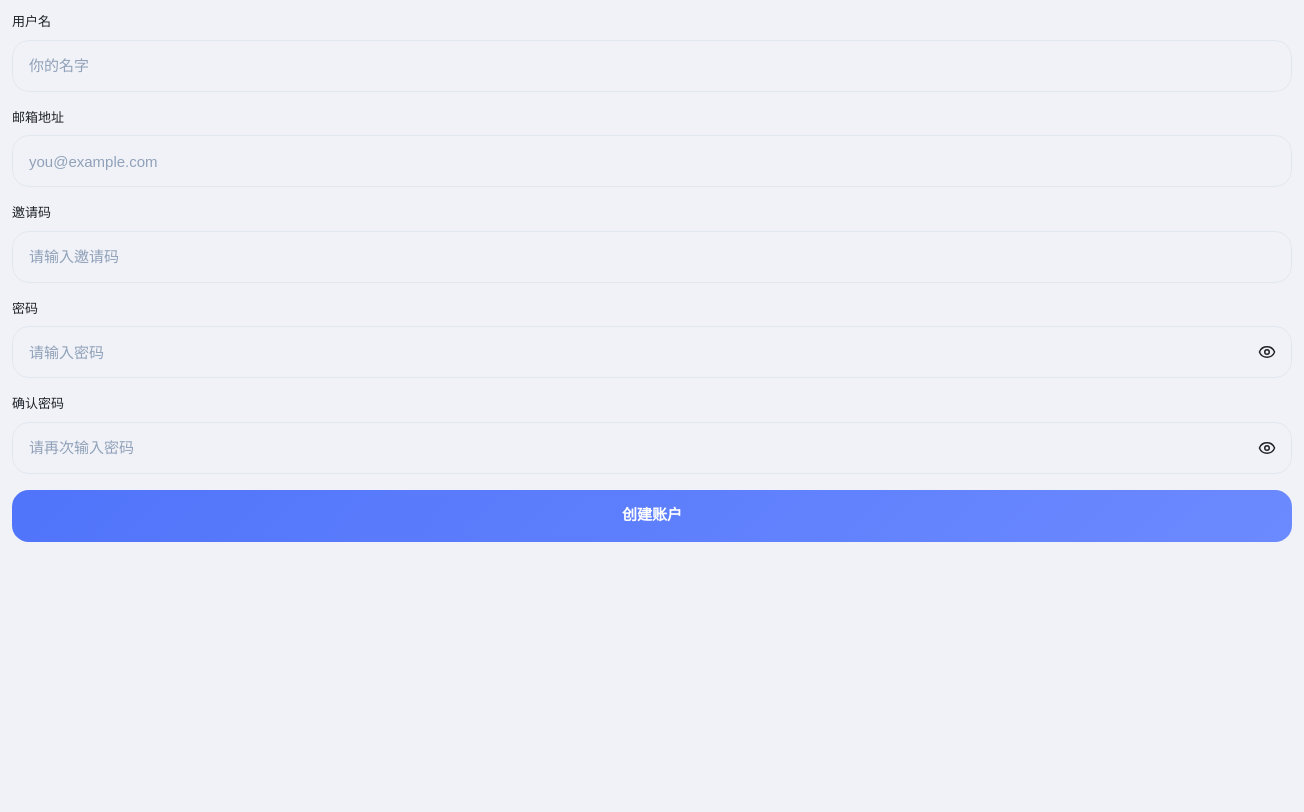
Test: auth components › RegisterForm › shows password validation error for weak password
Type "User" into the field with placeholder "你的名字" at (652, 66), box [12,40,1292,92]
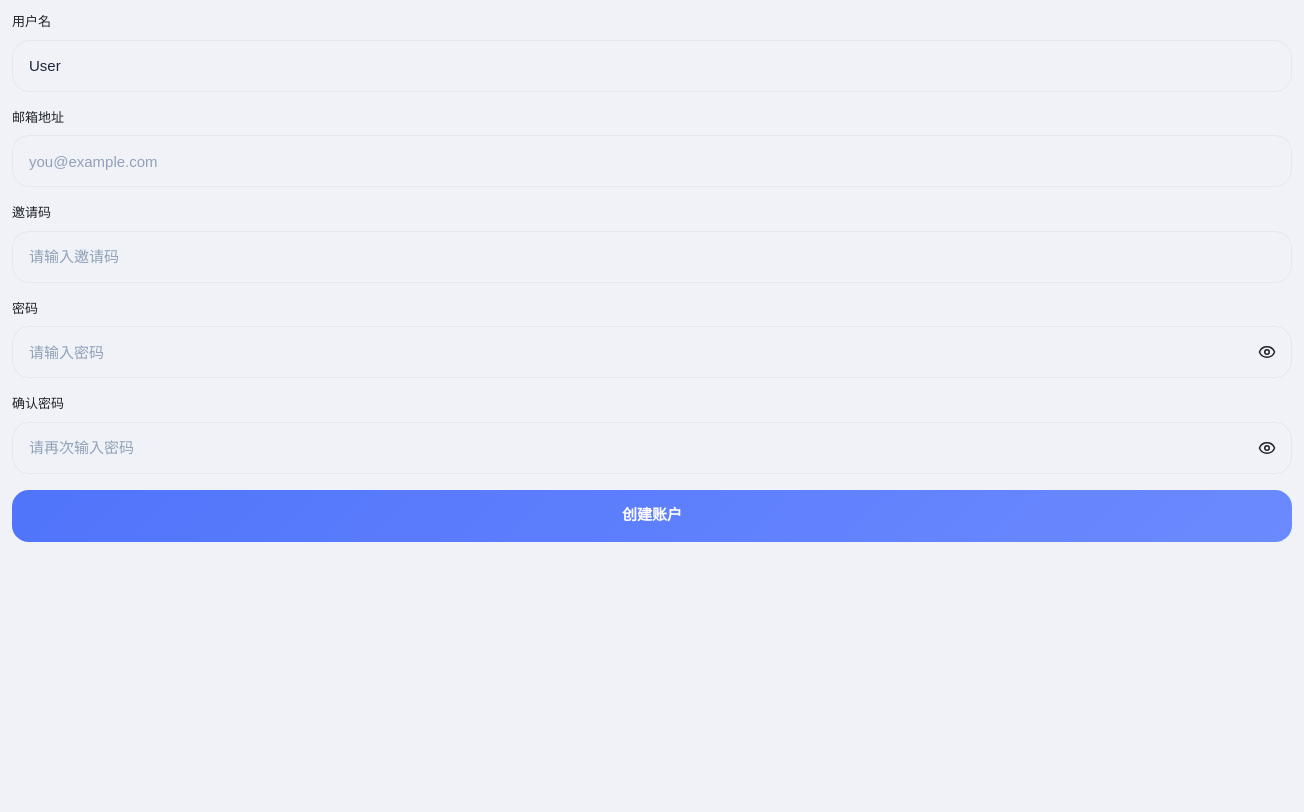
Type "user@example.com" into the field with placeholder "you@example.com" at (652, 161), box [12,135,1292,187]
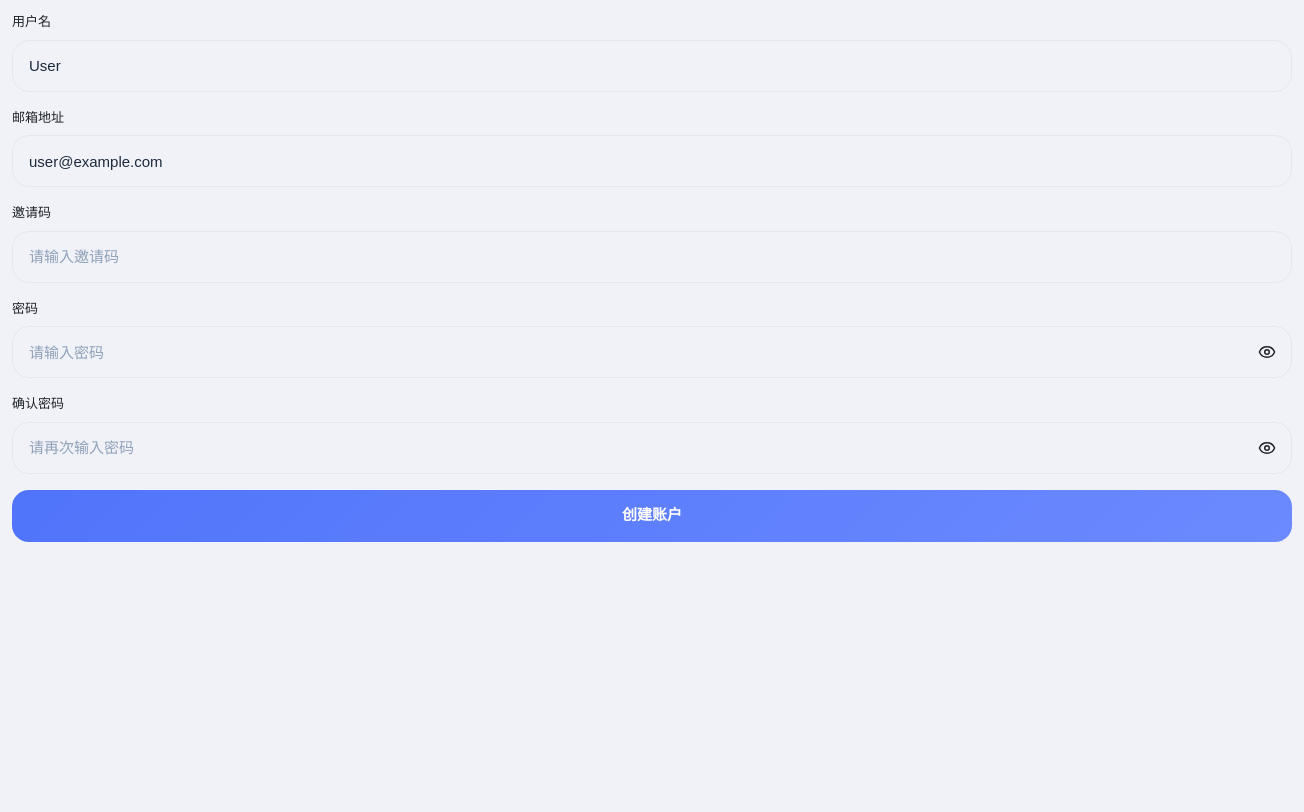
Type "weak" into the password field with placeholder "请输入密码" at (652, 352), box [12,326,1292,378]
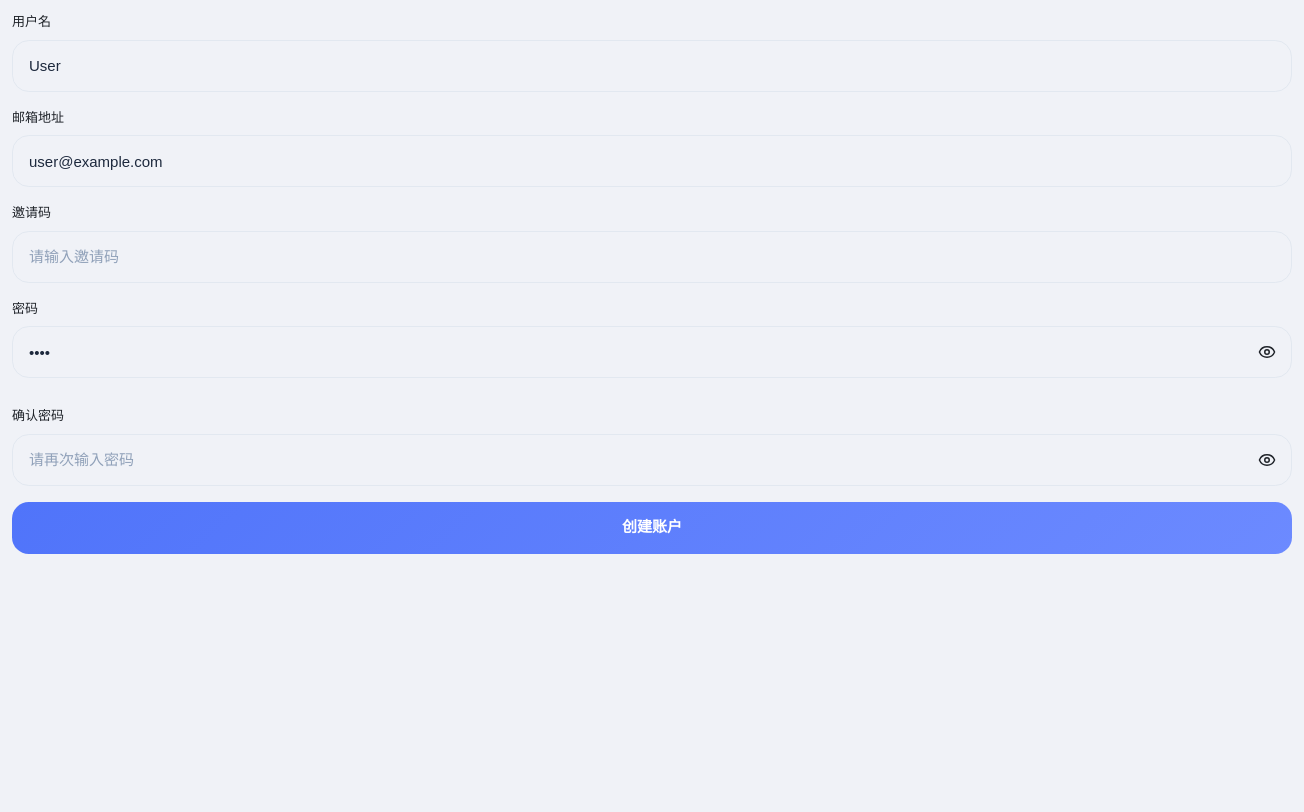
Type "weak" into the password field with placeholder "请再次输入密码" at (652, 460), box [12,434,1292,486]
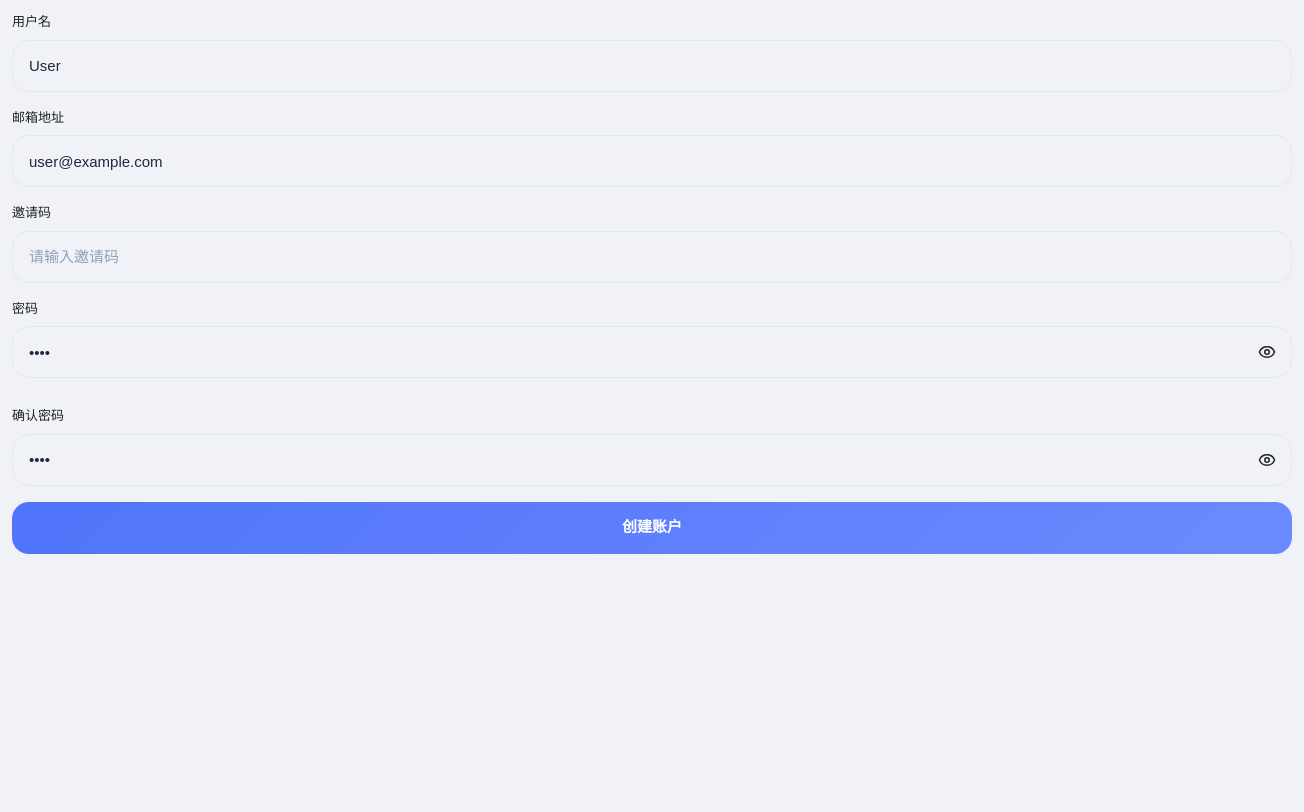
Submit the form with placeholder "you@example.com"
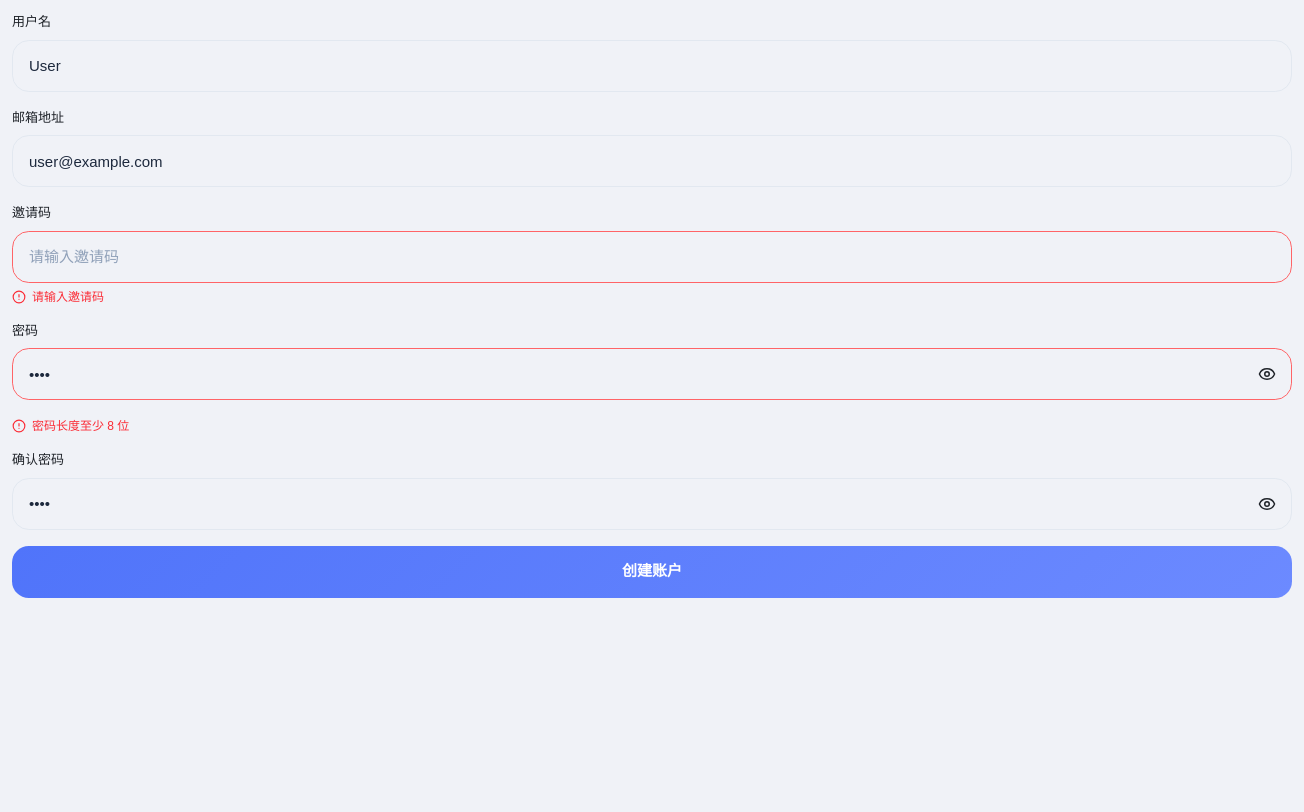
Result: the text "密码长度至少 8 位" is shown at [12,419,129,433]
